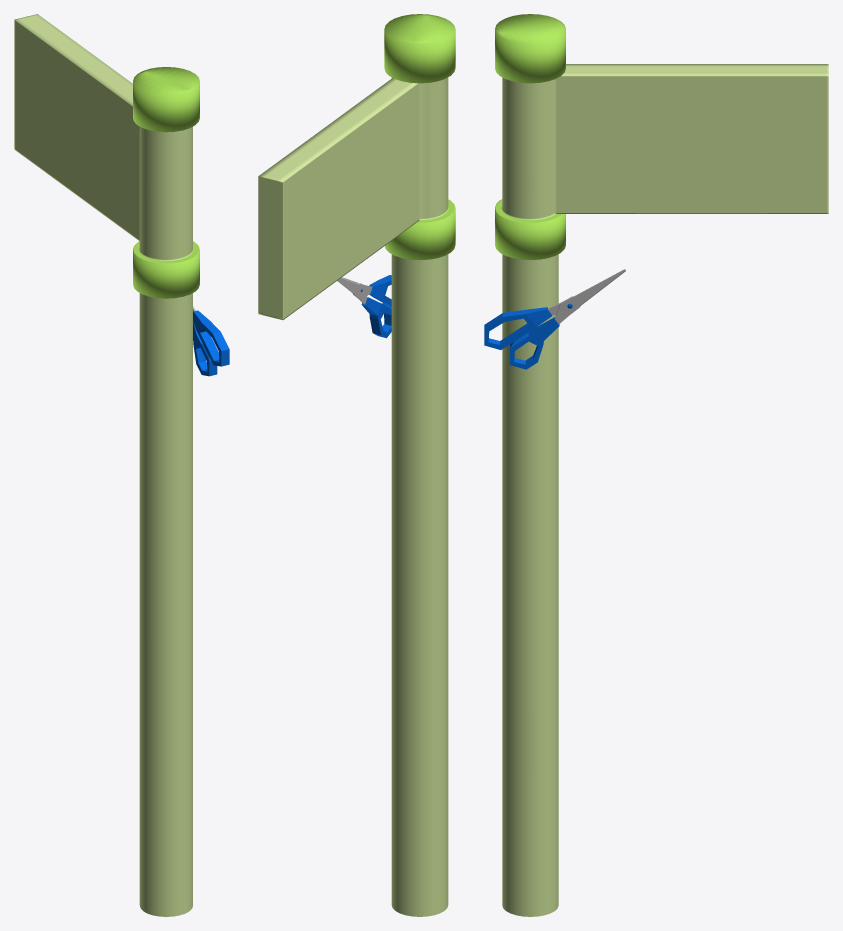
File: Tailor_Machine.fbx
3 renders of one model, left to right at view 1: azimuth 30°, elevation 25°; view 2: azimuth 150°, elevation 25°; view 3: azimuth 270°, elevation 25°, orthographic. The views are drawn at different scales.
Parts seen in each view (by area): view 1: Tailor, Scissor_Top, Scissor_Bottom; view 2: Tailor, Scissor_Bottom, Scissor_Top; view 3: Tailor, Scissor_Bottom, Scissor_Top.
Part boxes in pixels (x1,y1,x2,y2): Tailor: (14,14,199,916); Scissor_Top: (193,306,229,366); Scissor_Bottom: (193,321,217,376); Tailor: (258,14,455,916); Scissor_Bottom: (342,277,391,338); Scissor_Top: (337,275,391,306); Tailor: (495,14,828,916); Scissor_Bottom: (509,269,625,369); Scissor_Top: (484,269,625,349).
Bounding box in the file's own units: 48.78 × 546 × 195.
